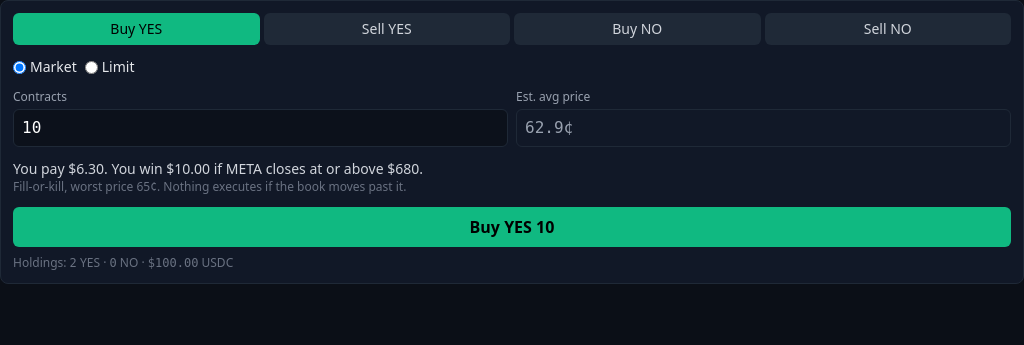
Scenario: position constraints › blocks Buy NO while holding YES
What coordinates should you click on to do the following:
click the tab "Buy NO"
I would click on:
 (637, 29)
Its box is x1=514 y1=13 x2=760 y2=45.
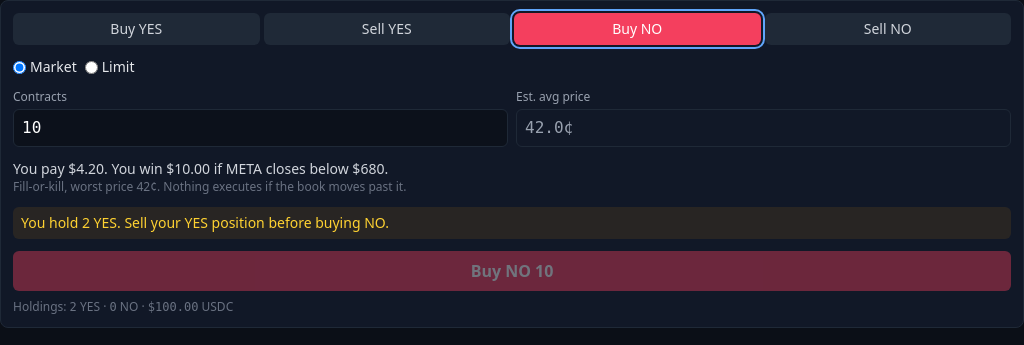
Expected: the message shows "Sell your YES position before buying NO", x1=21 y1=213 x2=389 y2=232
